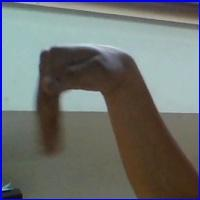A: (26, 41, 151, 160)
